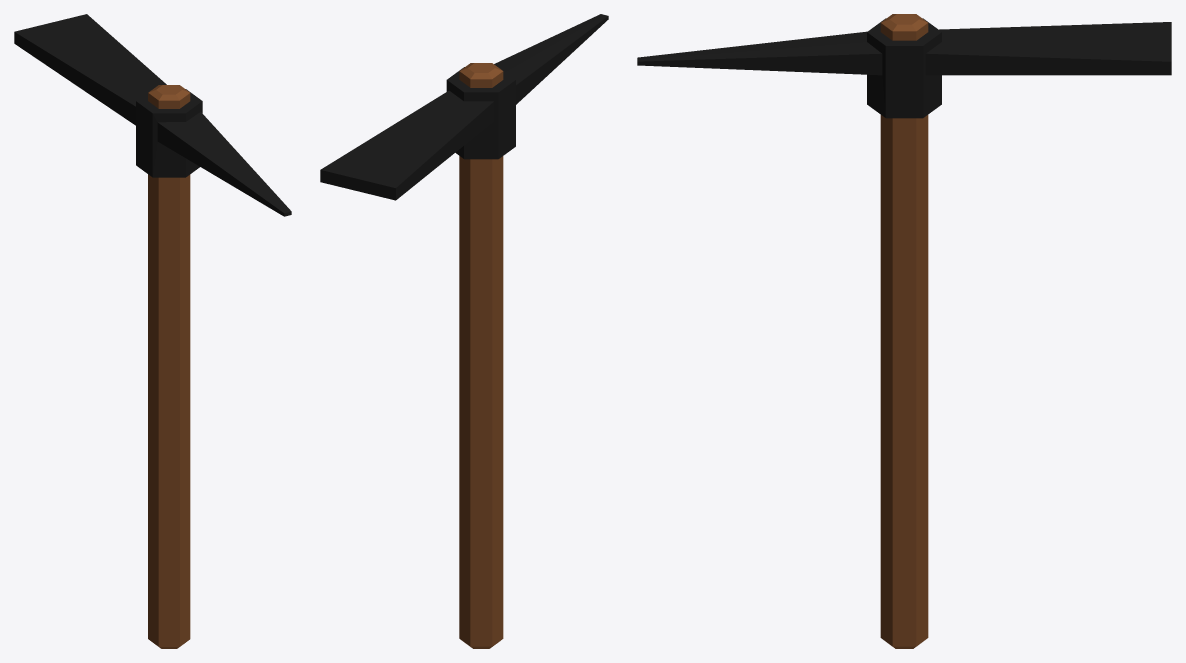
File: ww_pickaxe.glb
3 views of the same model, side by side, from view 1: azimuth 30°, elevation 25°; view 2: azimuth 150°, elevation 25°; view 3: azimuth 270°, elevation 25° (orthographic). The views are drawn at different scales.
Visible parts, largest first — view 1: Pickaxe; view 2: Pickaxe; view 3: Pickaxe.
Boxes of the visible parts, x1,y1,x2,y2 form: Pickaxe: (14, 14, 291, 648); Pickaxe: (320, 14, 608, 648); Pickaxe: (637, 14, 1171, 648).
Bounding box in the file's own units: 0.1894 × 1.38 × 1.07.
